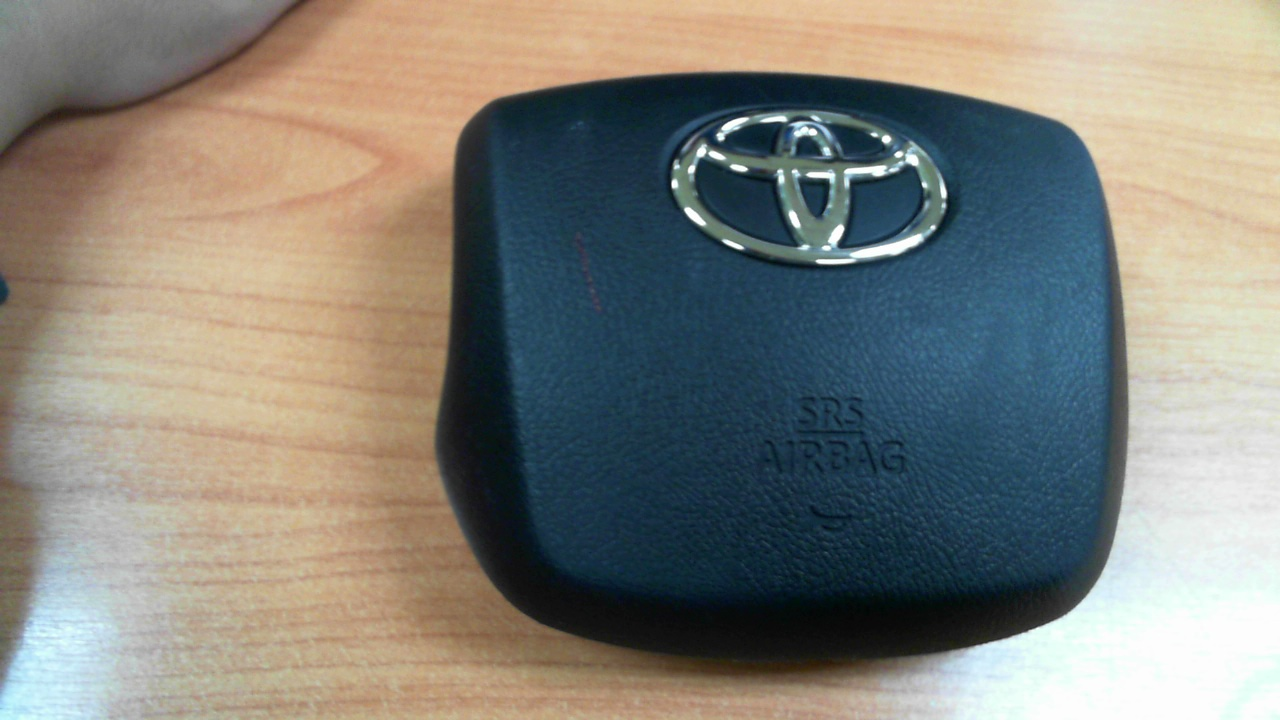Airbag: (433, 68, 1132, 664)
Toyota: (671, 109, 948, 265)
